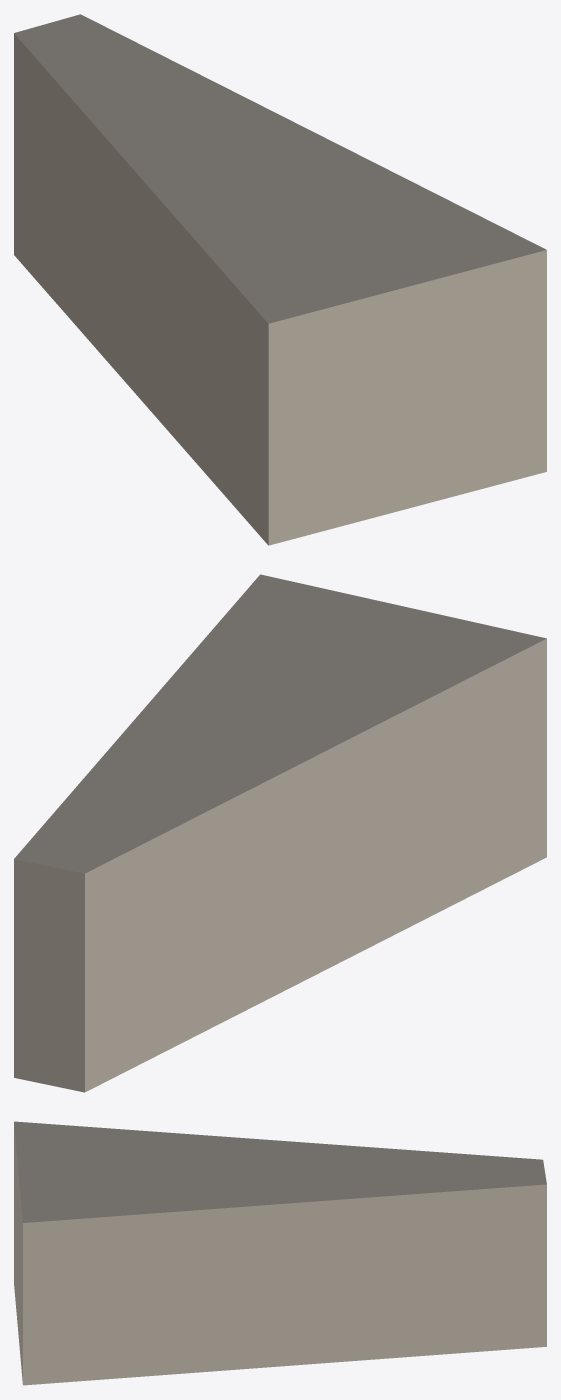
3 renders of one model, top to bottom at view 1: azimuth 30°, elevation 25°; view 2: azimuth 150°, elevation 25°; view 3: azimuth 270°, elevation 25°, orthographic. The views are drawn at different scales.
Visible parts, largest first — view 1: HP-w859447899; view 2: HP-w859447899; view 3: HP-w859447899.
Boxes of the visible parts, box(x1,y1,x2,y2) form: HP-w859447899: box(14, 14, 546, 545); HP-w859447899: box(14, 574, 546, 1092); HP-w859447899: box(14, 1121, 546, 1385).
Size of the model in its own units: 24.15 by 18 by 53.54.
